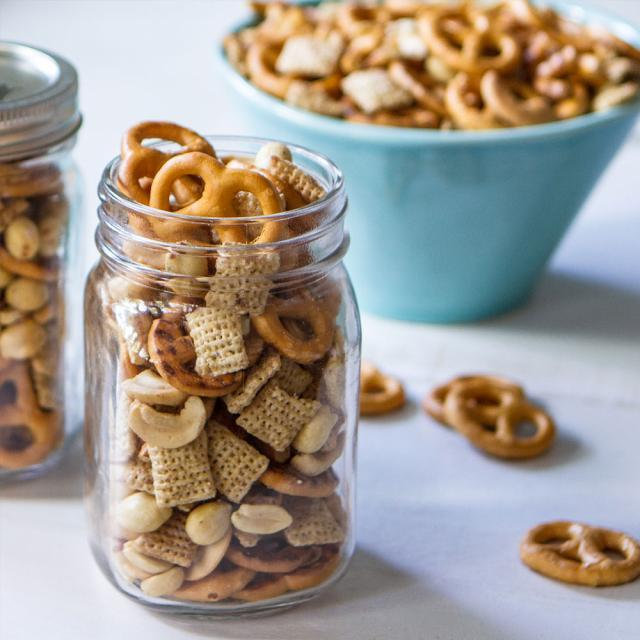Salatini: (78, 112, 356, 608)
